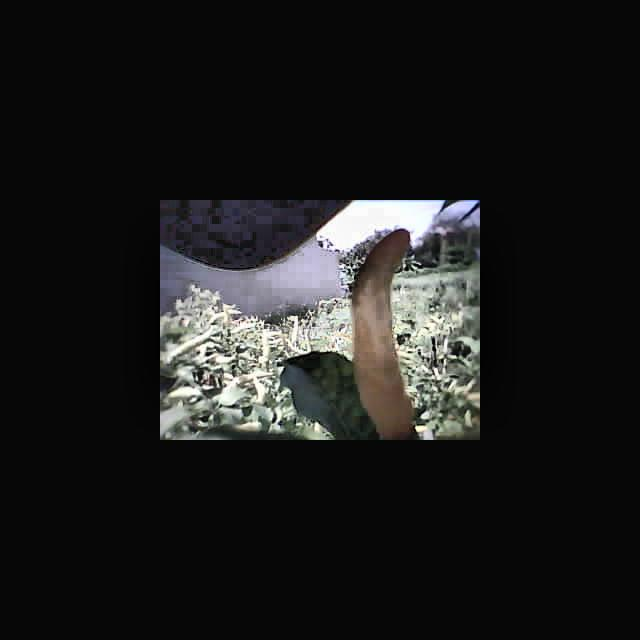Cabai: (351, 233, 421, 440)
